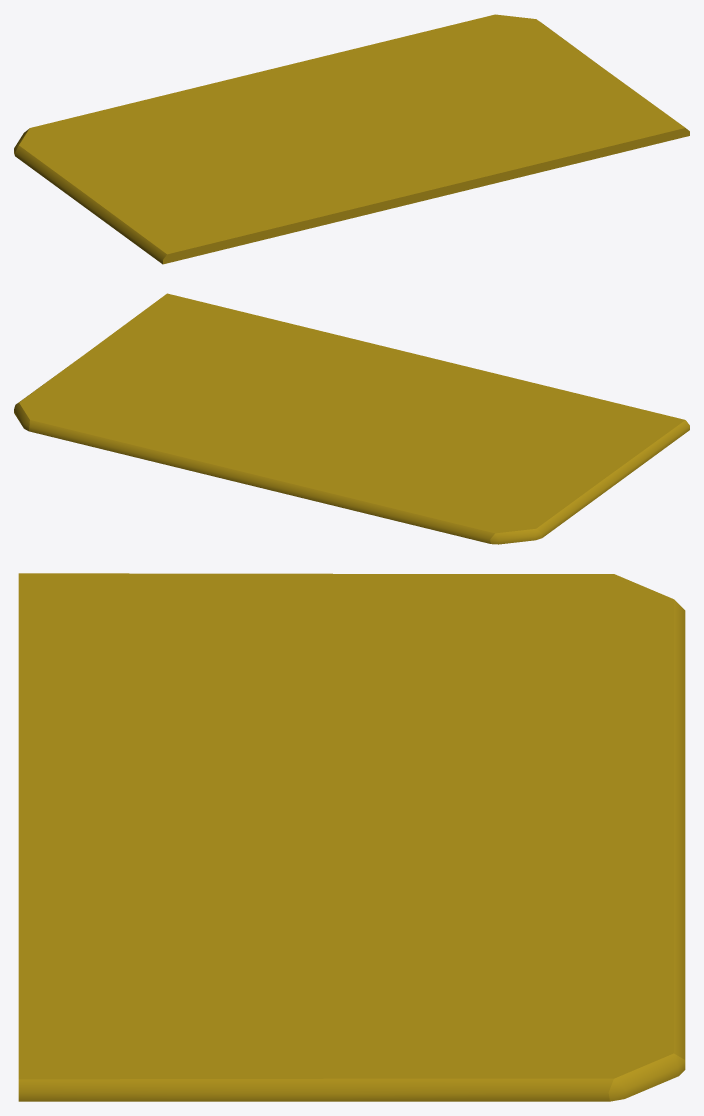
The model's file is RoadE03.fbx.
The picture shows the model from 3 angles, top to bottom: view 1: azimuth 30°, elevation 25°; view 2: azimuth 150°, elevation 25°; view 3: azimuth 270°, elevation 25°; orthographic projection. The views are drawn at different scales.
Visible parts, largest first — view 1: LOD0; view 2: LOD0; view 3: LOD0.
Boxes of the visible parts, x1=… form: LOD0: x1=14, y1=14, x2=689, y2=264; LOD0: x1=14, y1=293, x2=689, y2=544; LOD0: x1=18, y1=573, x2=685, y2=1101.
Size of what is drawn, in the model's own units: 272 by 149 by 4.46.
